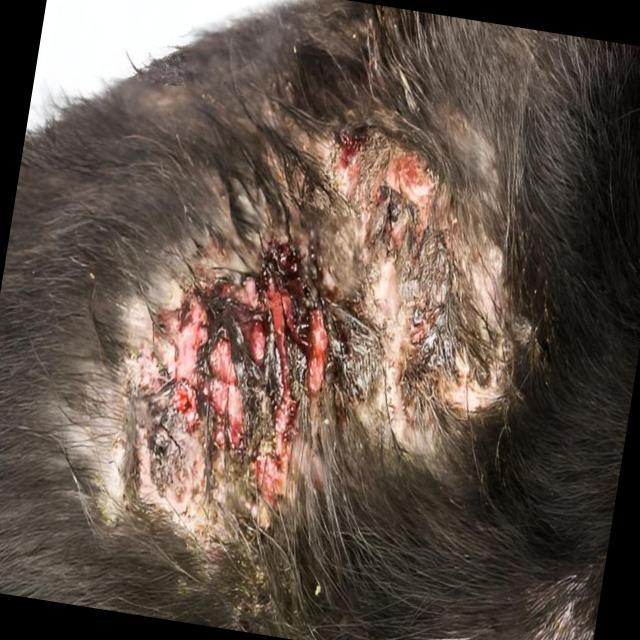allergic dermatitis: (49, 124, 528, 527)
